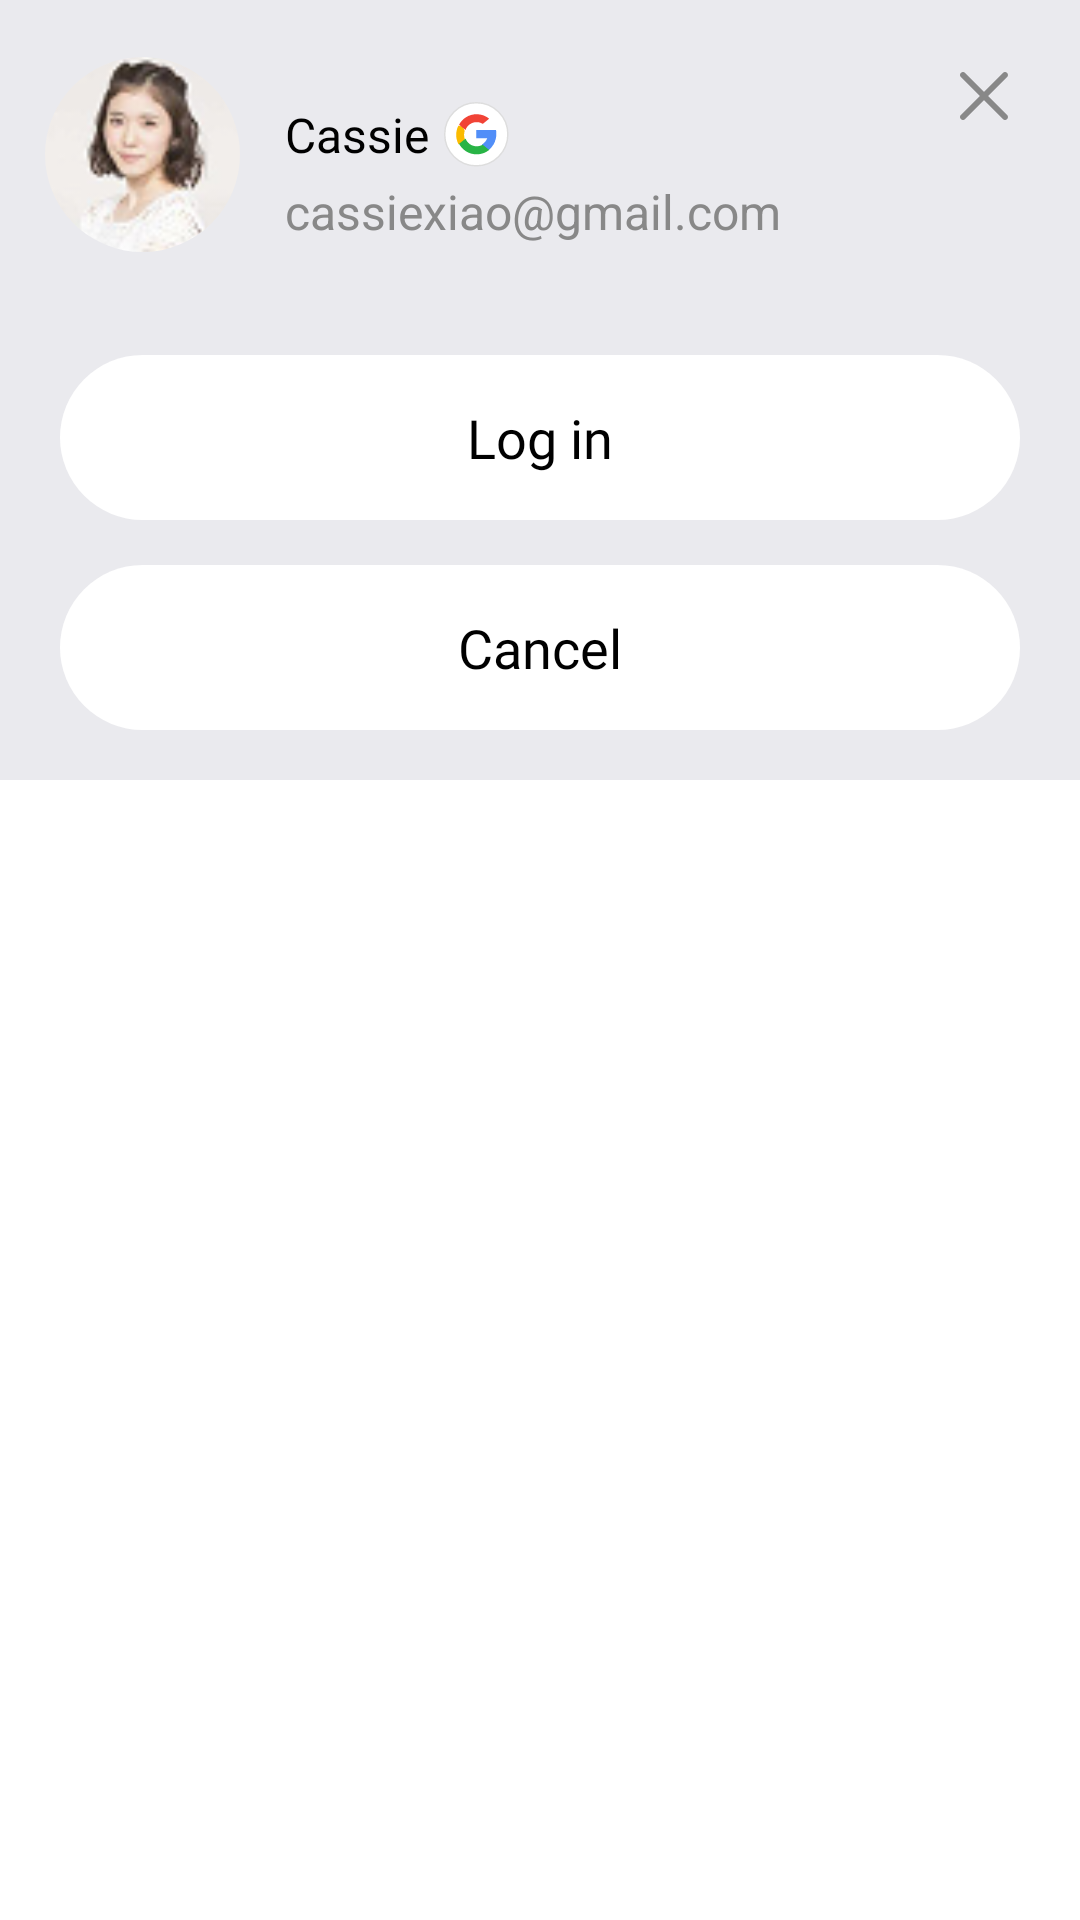

Icon click points for this 1080 × 1920 phone screenshot, format (x=x, y=y):
user: (x=146, y=152)
